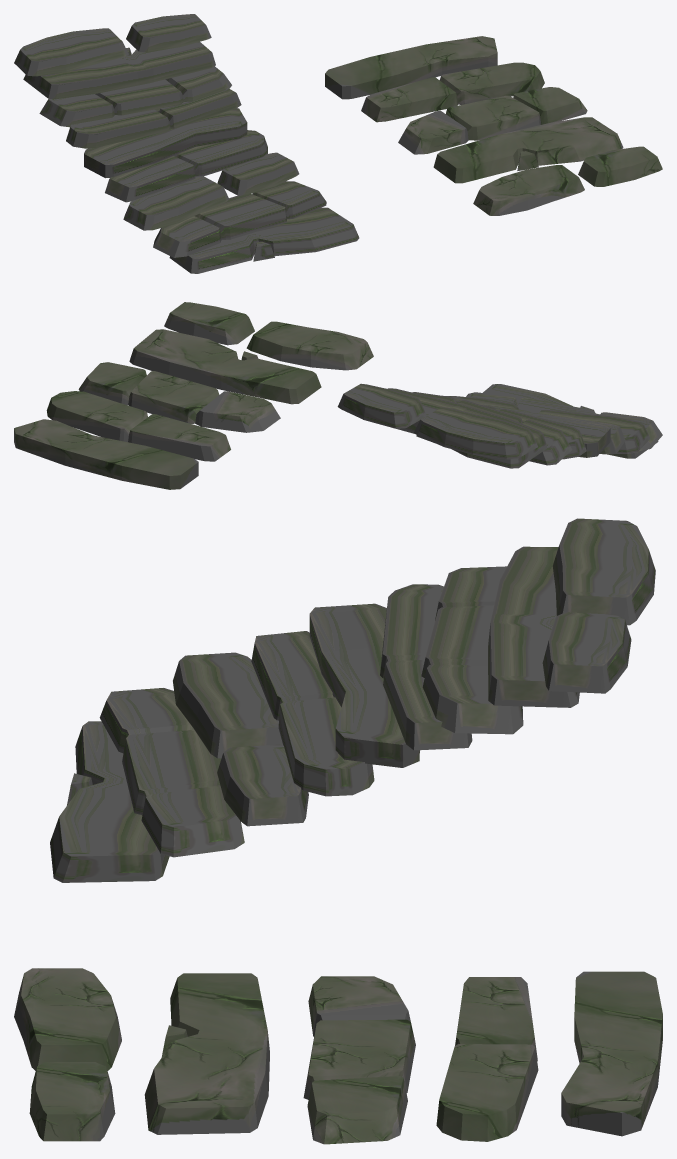
Rendered from stone_stair_steps.fbx.
3 views of the same model, one above another, from view 1: azimuth 30°, elevation 25°; view 2: azimuth 150°, elevation 25°; view 3: azimuth 270°, elevation 25° (orthographic). The views are drawn at different scales.
Visible parts, largest first — view 1: EXAMPLE, step.4, step.3, step.5, step.1, step.2; view 2: EXAMPLE, step.4, step.3, step.5, step.1, step.2; view 3: EXAMPLE, step.4, step.3, step.5, step.1, step.2.
Boxes of the visible parts, left/top/right/bottom form: EXAMPLE: left=14, top=14, right=359, bottom=273; step.4: left=433, top=117, right=623, bottom=183; step.3: left=398, top=87, right=587, bottom=154; step.5: left=473, top=146, right=662, bottom=215; step.1: left=325, top=36, right=497, bottom=99; step.2: left=361, top=62, right=544, bottom=122; EXAMPLE: left=337, top=383, right=662, bottom=468; step.4: left=129, top=329, right=321, bottom=404; step.3: left=78, top=362, right=280, bottom=432; step.5: left=164, top=302, right=373, bottom=370; step.1: left=14, top=419, right=198, bottom=489; step.2: left=46, top=391, right=230, bottom=461; EXAMPLE: left=50, top=518, right=655, bottom=882; step.4: left=144, top=973, right=269, bottom=1134; step.3: left=303, top=976, right=415, bottom=1144; step.5: left=14, top=968, right=121, bottom=1141; step.1: left=561, top=971, right=662, bottom=1136; step.2: left=436, top=977, right=538, bottom=1141.
Size of the model in its own units: 563 by 127 by 362.
